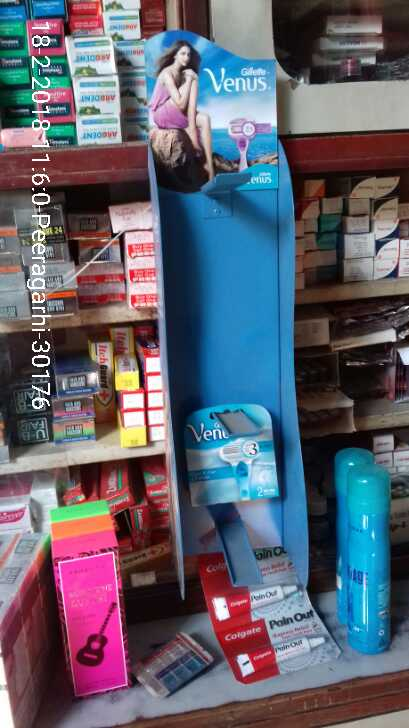venus: (181, 404, 284, 510)
